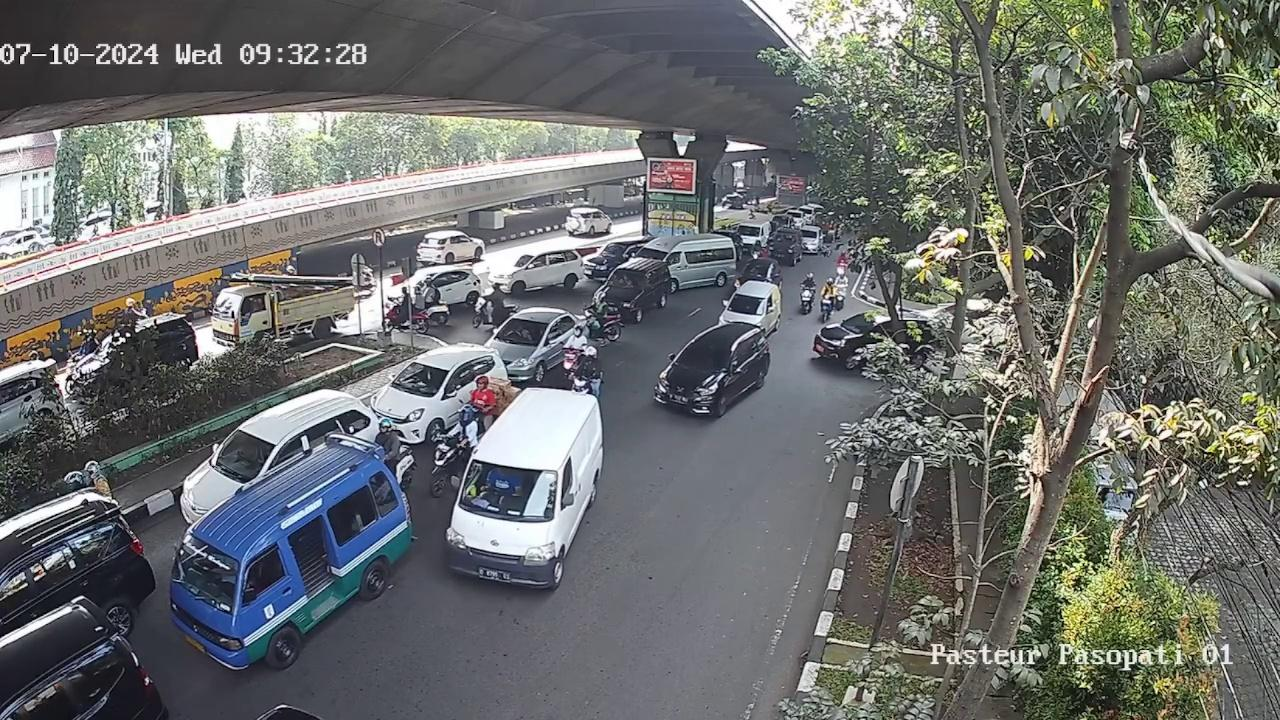tidak-pakai: (484, 470, 523, 498)
windshield: (169, 531, 245, 613), (458, 461, 559, 519), (212, 429, 274, 476), (394, 358, 449, 393), (677, 340, 736, 369), (496, 321, 547, 347), (727, 293, 771, 312)
